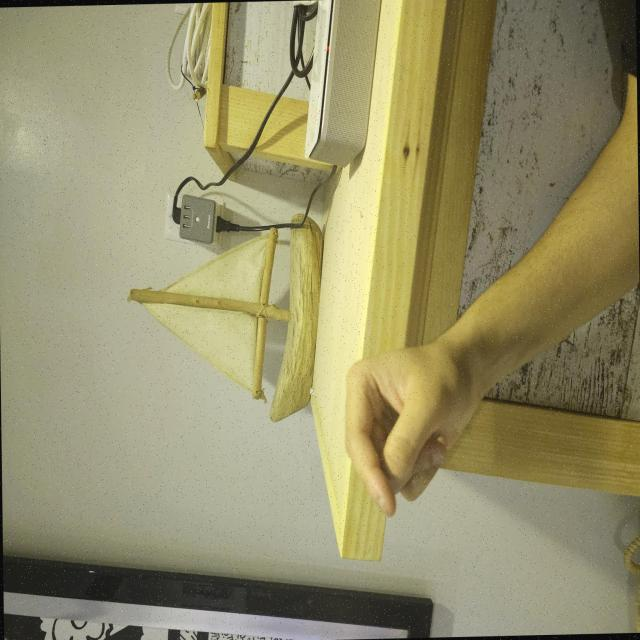Z: (88, 456, 242, 632)
